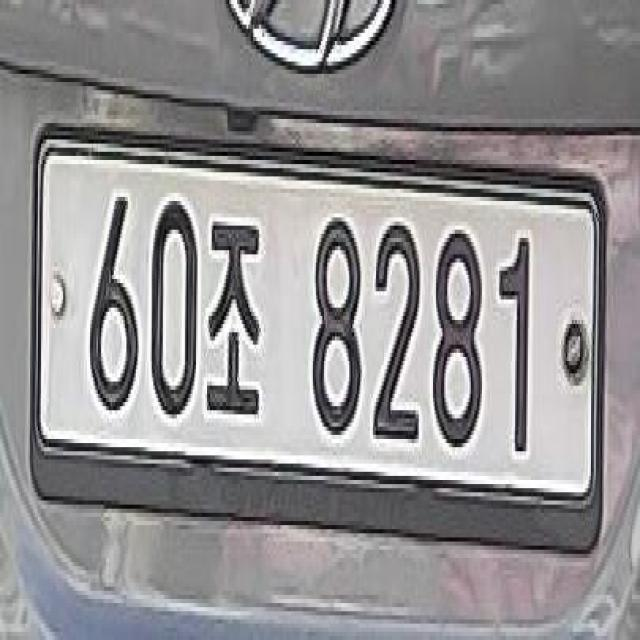0: (144, 190, 198, 422)
1: (494, 220, 538, 455)
2: (368, 211, 422, 447)
6: (82, 180, 140, 424)
8: (424, 214, 488, 445), (308, 202, 363, 442)
jo: (202, 204, 265, 436)
license_plate: (22, 84, 614, 580)
